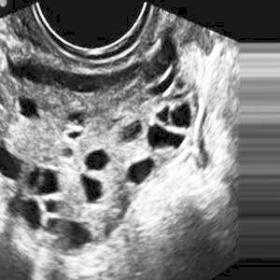PCOS: (5, 188, 46, 230), (146, 123, 187, 151), (0, 146, 26, 184), (126, 158, 156, 186), (81, 172, 106, 203), (67, 219, 92, 250), (117, 118, 144, 146), (170, 99, 193, 131), (16, 93, 42, 120), (38, 168, 59, 200), (84, 148, 111, 172), (26, 166, 44, 191), (156, 103, 172, 126), (42, 197, 58, 216), (67, 110, 87, 125), (63, 129, 85, 142)
